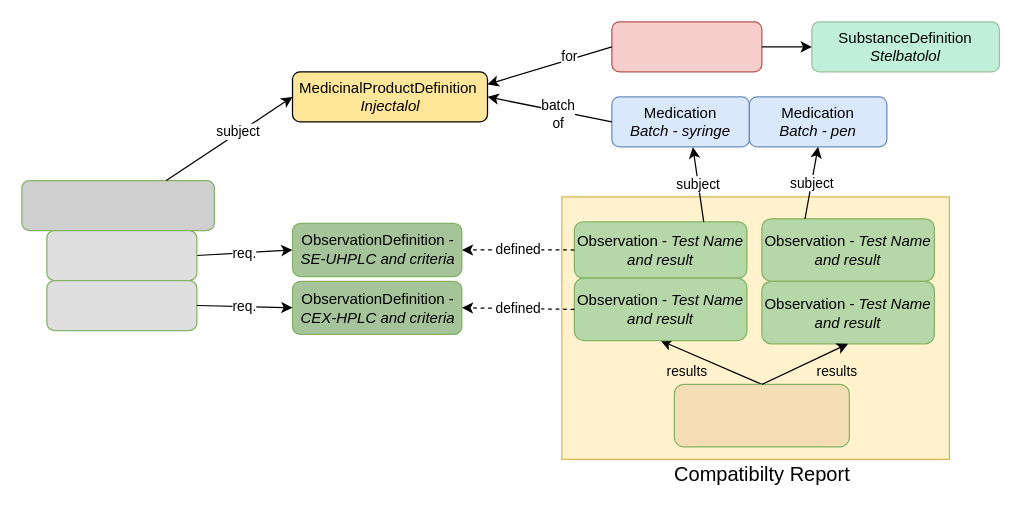
Image size: 1021x519. Some labels were removed from this diagram. The centre of each missing label's shape, as x and y in pixels:
Action CEX-HPLC test: pixel 121 304
Action SE-UHPLC test: pixel 121 254
DiagnosticReport List of values and conclusion (compatiblity): pixel 761 415
Ingredient: pixel 686 46
PlanDefinition Test Specification: pixel 117 204
